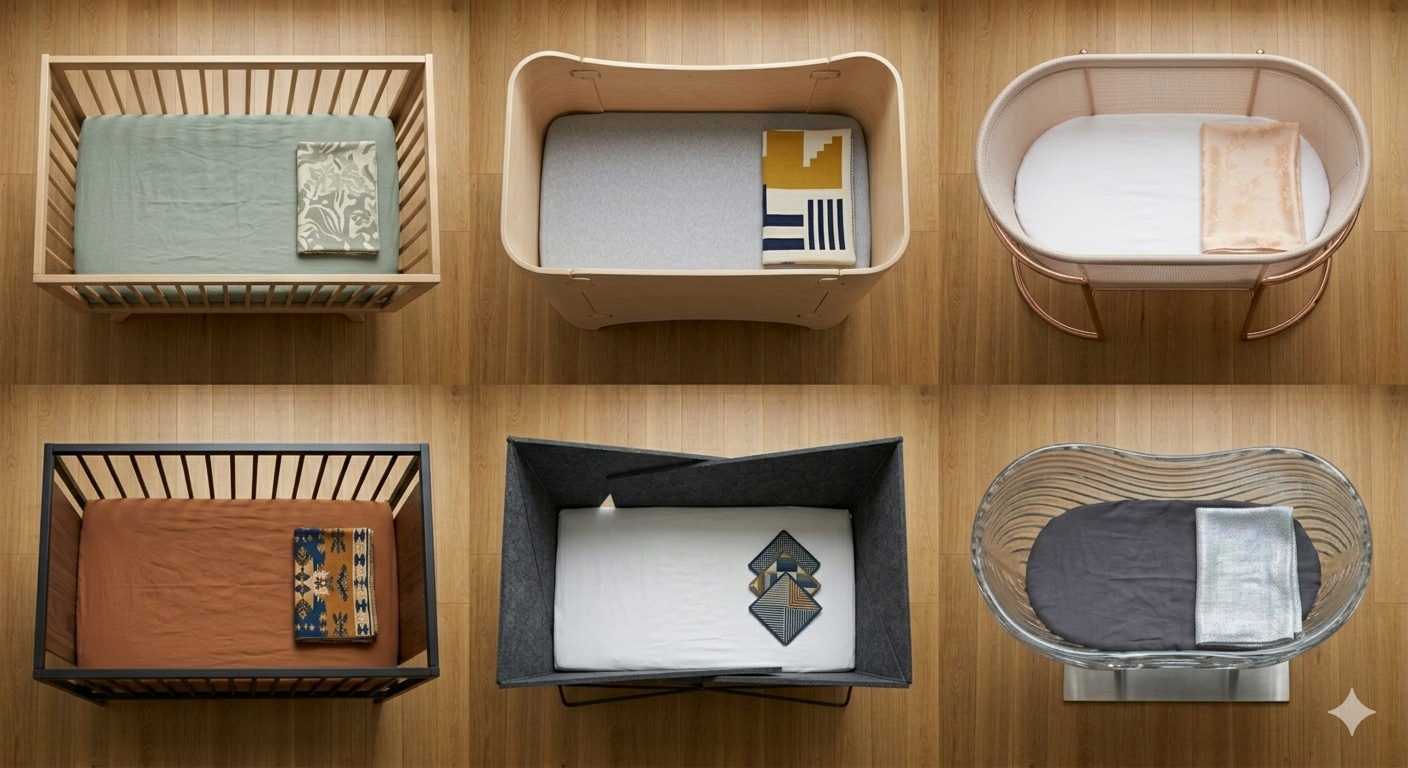crib: (502, 51, 909, 329), (975, 54, 1369, 338), (497, 437, 912, 706), (33, 55, 439, 319), (33, 444, 438, 702), (970, 444, 1371, 699)
